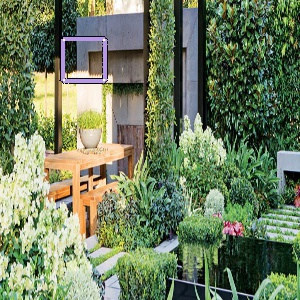square: (58, 33, 111, 86)
